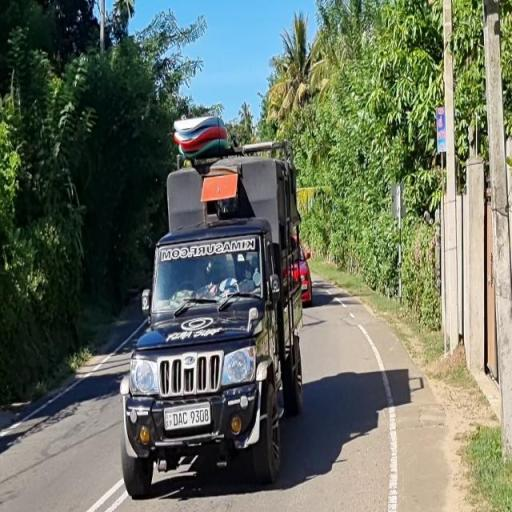double_white_line: (87, 479, 123, 512)
